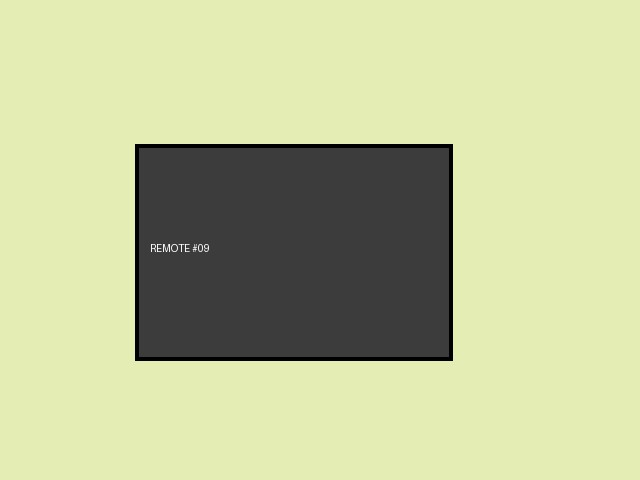remote: (135, 144, 452, 360)
